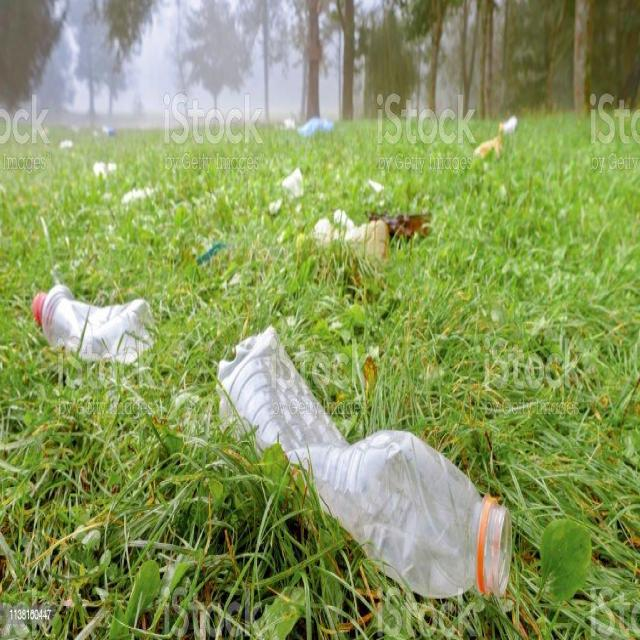bottle: (221, 353, 519, 639), (23, 276, 163, 372)
